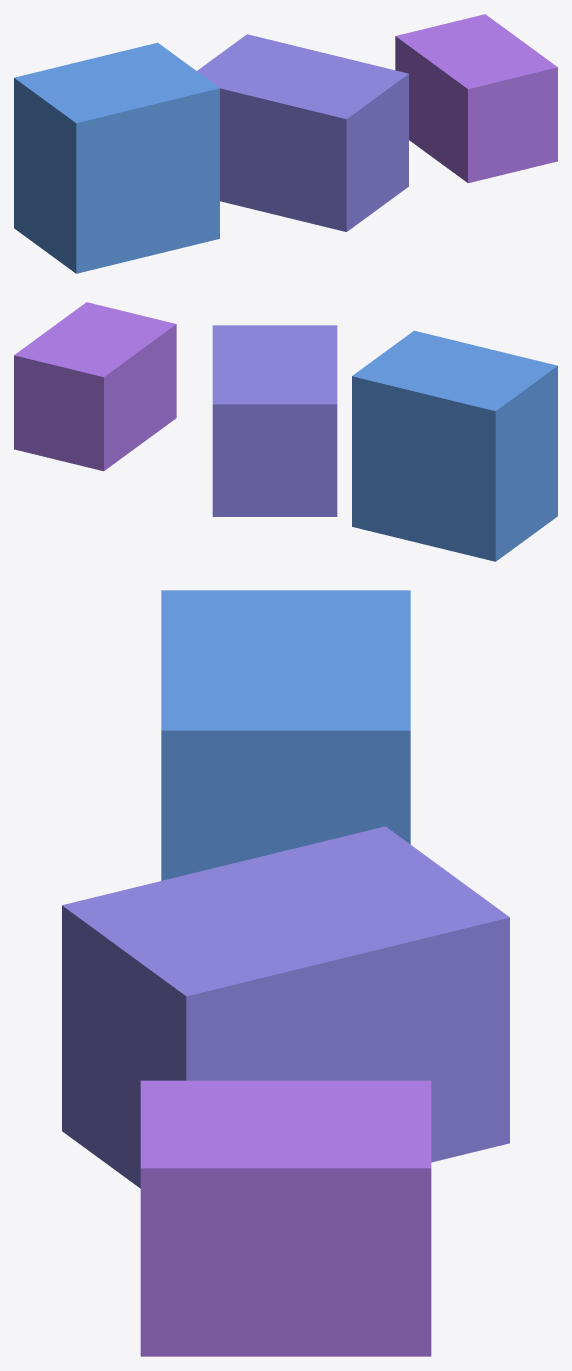
File: three-objects-before.glb
3 views of the same model, one above another, from view 1: azimuth 30°, elevation 25°; view 2: azimuth 150°, elevation 25°; view 3: azimuth 270°, elevation 25° (orthographic). The views are drawn at different scales.
Parts seen in each view (by area): view 1: block-a, block-b, block-c; view 2: block-a, block-b, block-c; view 3: block-b, block-c, block-a.
Part boxes in pixels (left/top/right/bottom): block-a: left=14, top=42, right=219, bottom=273; block-b: left=197, top=34, right=408, bottom=231; block-c: left=395, top=14, right=557, bottom=183; block-a: left=352, top=330, right=557, bottom=561; block-b: left=212, top=325, right=337, bottom=516; block-c: left=14, top=302, right=176, bottom=471; block-b: left=62, top=826, right=509, bottom=1188; block-c: left=140, top=1080, right=431, bottom=1356; block-a: left=161, top=590, right=410, bottom=880.
Bounding box in the file's own units: 2.65 × 0.8 × 1.08.
